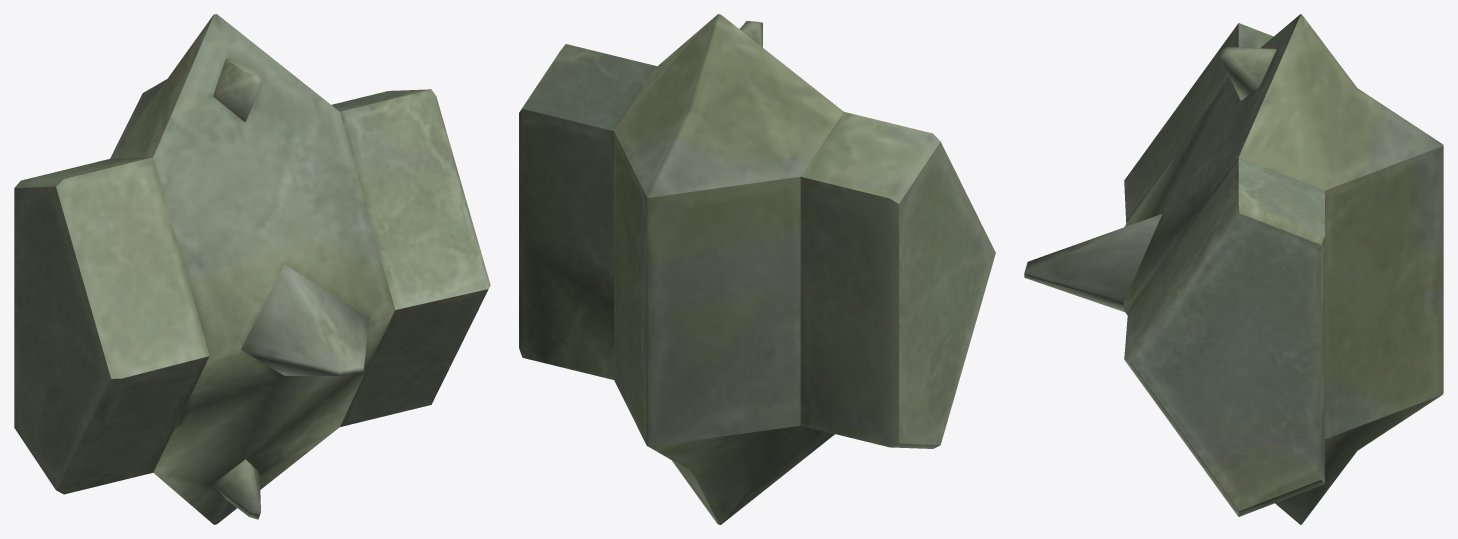
Rendered from Ruins_Trim_Cap_4M_A.fbx.
The picture shows the model from 3 angles, left to right: view 1: azimuth 30°, elevation 25°; view 2: azimuth 150°, elevation 25°; view 3: azimuth 270°, elevation 25°; orthographic projection.
Visible parts, largest first — view 1: Ruins_Trim_Cap_4M_A; view 2: Ruins_Trim_Cap_4M_A; view 3: Ruins_Trim_Cap_4M_A.
Boxes of the visible parts, <box> form: Ruins_Trim_Cap_4M_A: <box>14,14,490,524</box>; Ruins_Trim_Cap_4M_A: <box>519,14,995,524</box>; Ruins_Trim_Cap_4M_A: <box>1024,14,1443,524</box>.
Size of the model in its own units: 400 by 512 by 382.
